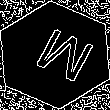M_SW: (20, 22, 90, 88)
